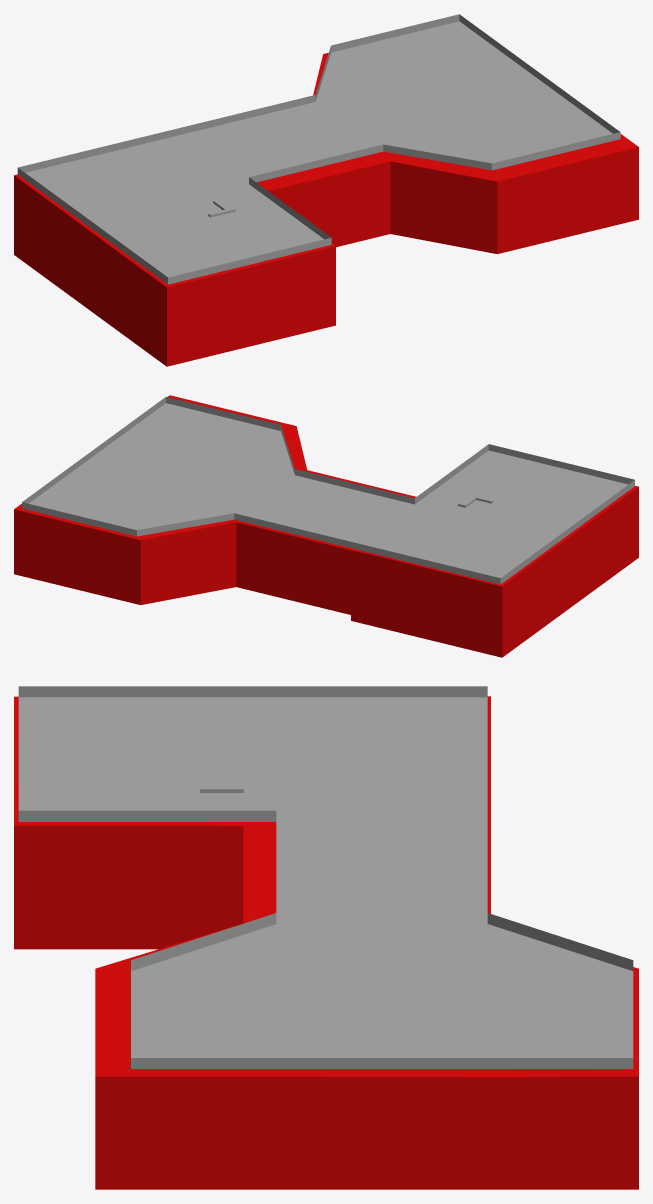
The model's file is Outershell Museum insidev3.fbx.
The picture shows the model from 3 angles, top to bottom: view 1: azimuth 30°, elevation 25°; view 2: azimuth 150°, elevation 25°; view 3: azimuth 270°, elevation 25°; orthographic projection. The views are drawn at different scales.
Parts seen in each view (by area): view 1: pCube22, pCube1; view 2: pCube22, pCube1; view 3: pCube22, pCube1.
Boxes of the visible parts, x1,y1,x2,y2 form: pCube22: [17, 14, 620, 284]; pCube1: [14, 53, 638, 366]; pCube22: [22, 396, 634, 584]; pCube1: [14, 395, 638, 657]; pCube22: [18, 686, 633, 1068]; pCube1: [14, 696, 638, 1189].
Size of the model in its own units: 73.3 by 12.3 by 51.04.
